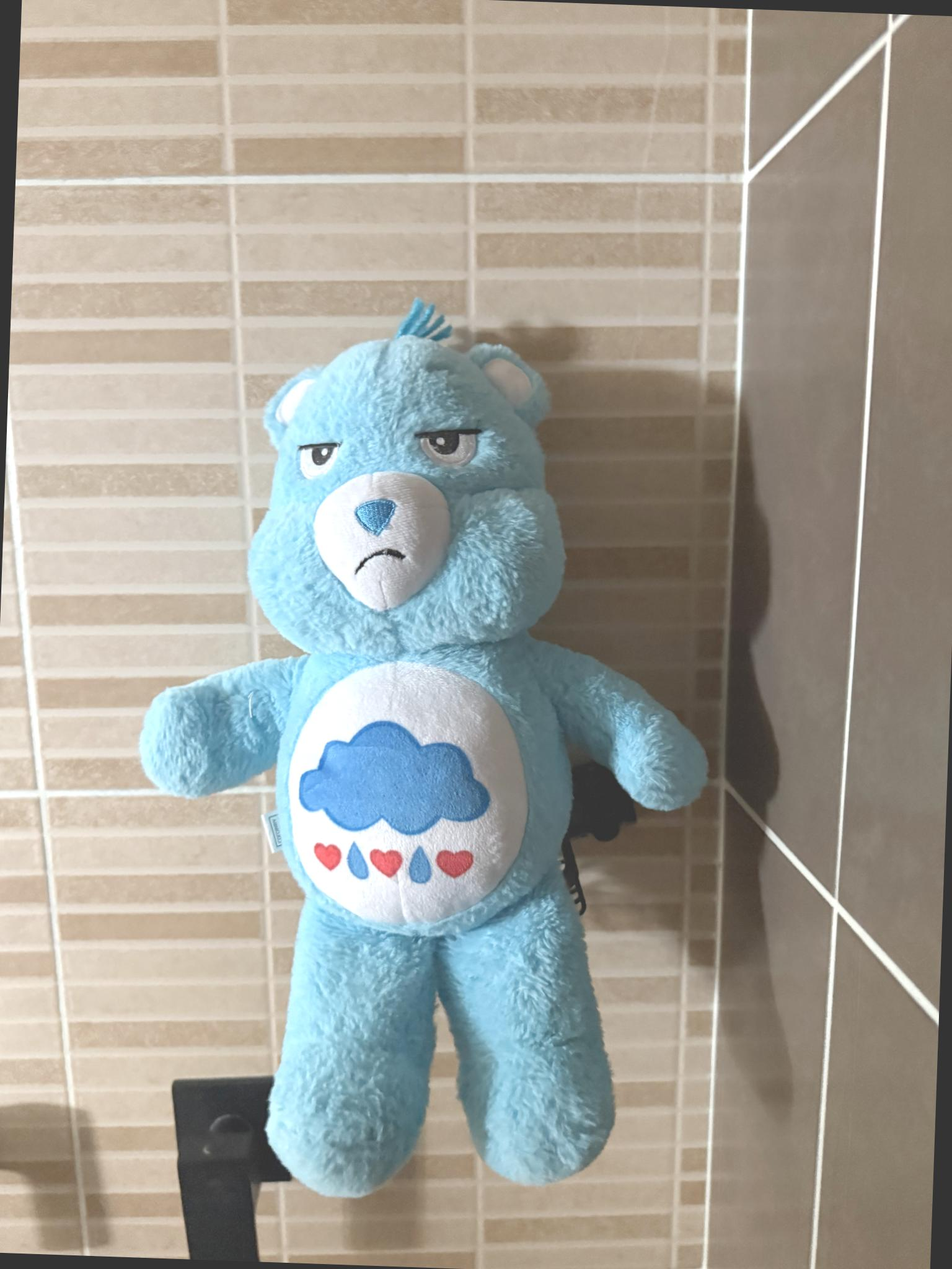peluche_Juan Jose: (124, 287, 725, 1214)
